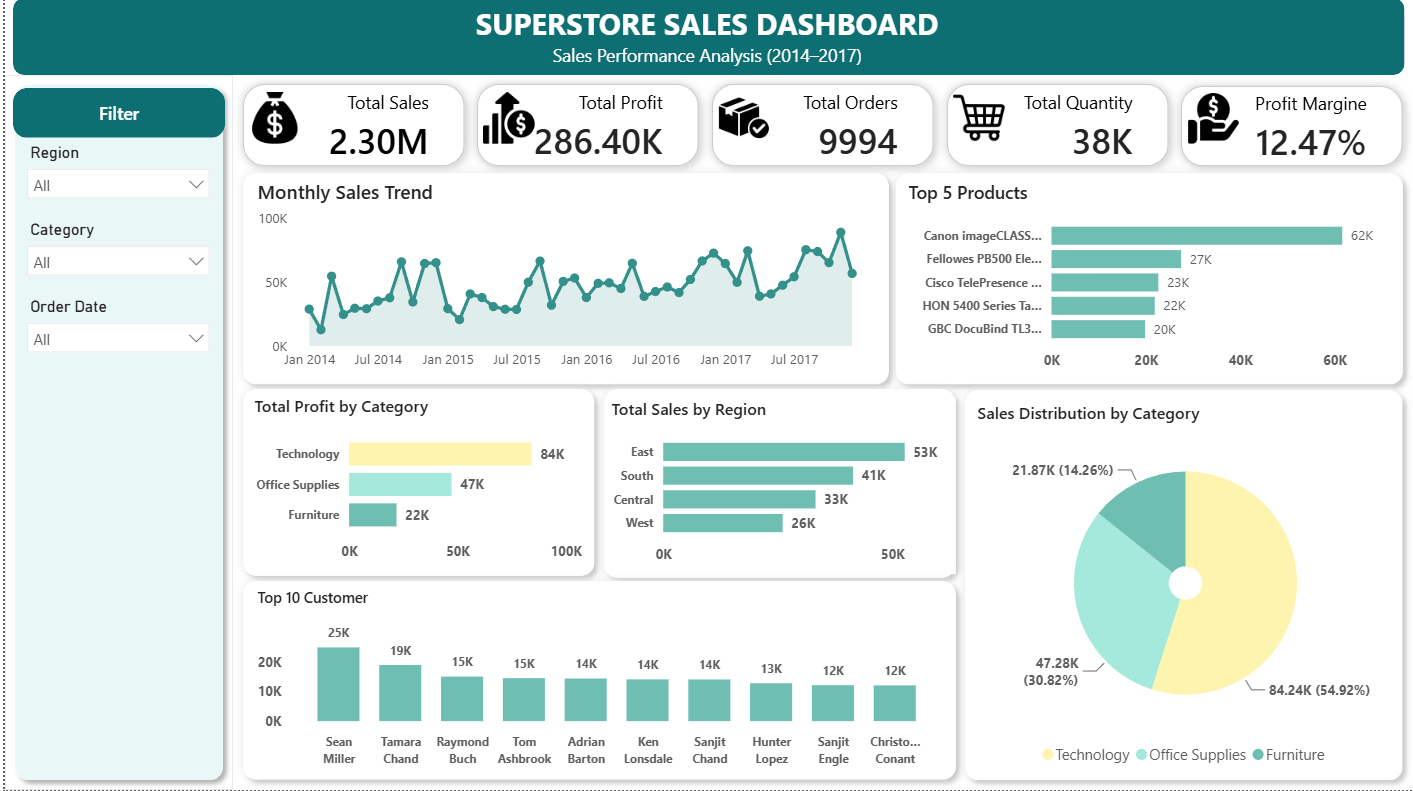

Layout of this report page (visuals, bound fields, positions):
{"tool":"powerbi","page":{"name":"Sales Dashboard","canvas":[1280,720],"ordinal":0},"visuals":[{"type":"shape","box":[7,0,1265,70],"z":0},{"type":"group","id":"g1","title":"Group 1","box":[206.9,69,219.4,93.1],"z":0,"group":"g6"},{"type":"shape","box":[206.9,69,219.6,92.9],"z":0,"group":"g1"},{"type":"group","id":"g2","title":"Group 1","box":[420,69,219.4,93.1],"z":0,"group":"g7"},{"type":"shape","box":[420,69,219.6,92.9],"z":0,"group":"g2"},{"type":"group","id":"g3","title":"Group 1","box":[634,69,219.4,93.1],"z":0,"group":"g8"},{"type":"shape","box":[634,69,219.6,92.9],"z":0,"group":"g3"},{"type":"group","id":"g4","title":"Group 1","box":[847.2,69,219.4,93.1],"z":0,"group":"g9"},{"type":"shape","box":[847.2,69,219.6,92.9],"z":0,"group":"g4"},{"type":"group","id":"g5","title":"Group 1","box":[1060.3,70.7,219.4,91.3],"z":0,"group":"g10"},{"type":"shape","box":[1060.3,70.7,219.6,91.1],"z":0,"group":"g5"},{"type":"shape","box":[206.9,149.6,605.4,210.4],"z":0,"group":"g11"},{"type":"shape","box":[800.6,149.6,479.1,210.4],"z":0,"group":"g12"},{"type":"shape","box":[206.9,346.6,337.6,188],"z":0,"group":"g13"},{"type":"shape","box":[535.5,346.6,337.6,189.9],"z":0,"group":"g14"},{"type":"shape","box":[864,347,416,373],"z":0,"group":"g15"},{"type":"shape","box":[206.9,521.2,666.3,198.8],"z":0,"group":"g16"},{"type":"textbox","box":[36.7,0,1204.2,70],"z":1000},{"type":"cardVisual","fields":{"Data":["cleaned_sales_data.Total Sales"]},"box":[218.4,70.6,195.6,91.5],"z":1000,"group":"g1"},{"type":"cardVisual","fields":{"Data":["cleaned_sales_data.Total Profit"]},"box":[431.5,70.6,195.6,91.5],"z":1000,"group":"g2"},{"type":"cardVisual","fields":{"Data":["cleaned_sales_data.Total Orders"]},"box":[645.5,70.6,195.6,91.5],"z":1000,"group":"g3"},{"type":"cardVisual","fields":{"Data":["cleaned_sales_data.Total Quantity"]},"box":[858.7,70.6,195.6,91.5],"z":1000,"group":"g4"},{"type":"cardVisual","fields":{"Data":["cleaned_sales_data.Profit Margine"]},"box":[1071.8,72.2,195.6,89.7],"z":1000,"group":"g5"},{"type":"image","box":[221.3,85,47.5,47.3],"z":1000,"group":"g6"},{"type":"image","box":[434.4,85,47.5,47.3],"z":1000,"group":"g7"},{"type":"image","box":[648.4,85,47.5,47.3],"z":1000,"group":"g8"},{"type":"image","box":[861.6,85,47.5,47.3],"z":1000,"group":"g9"},{"type":"image","box":[1074.7,86.4,47.5,46.4],"z":1000,"group":"g10"},{"type":"lineChart","title":"Monthly Sales Trend","fields":{"Y":["cleaned_sales_data.Total Sales"],"Category":["cleaned_sales_data.Order Date.Variation.Date Hierarchy.Year","cleaned_sales_data.Order Date.Variation.Date Hierarchy.Month"]},"box":[224.1,163,572.6,182.7],"z":1000,"group":"g11"},{"type":"clusteredBarChart","title":"Top 5 Products","fields":{"Y":["cleaned_sales_data.Total Sales"],"Category":["cleaned_sales_data.Product Name"]},"box":[816.2,164.7,451.3,181.9],"z":1000,"group":"g12"},{"type":"clusteredBarChart","title":"Total Profit by Category","fields":{"Y":["cleaned_sales_data.Total Sales"],"Category":["cleaned_sales_data.Category"]},"box":[221.3,360.4,308.1,161.6],"z":1000,"group":"g13"},{"type":"clusteredBarChart","title":"Total Sales by Region","fields":{"Y":["cleaned_sales_data.Total Sales"],"Category":["cleaned_sales_data.Region"]},"box":[546.5,362.6,318,161.3],"z":1000,"group":"g14"},{"type":"donutChart","title":"Sales Distribution by Category","fields":{"Category":["cleaned_sales_data.Category"],"Y":["cleaned_sales_data.Total Sales"]},"box":[879.1,365.7,388.2,340.3],"z":1000,"group":"g15"},{"type":"clusteredColumnChart","title":"Top 10 Customer","fields":{"Category":["cleaned_sales_data.Customer Name"],"Y":["cleaned_sales_data.Total Sales"]},"box":[224,537,632,170],"z":1000,"group":"g16"},{"type":"shape","box":[0,70,207.3,650],"z":3000},{"type":"shape","box":[7.3,81.8,192.7,45.5],"z":4000},{"type":"slicer","fields":{"Values":["cleaned_sales_data.Region"]},"box":[10,127.3,186.4,70],"z":5000},{"type":"slicer","fields":{"Values":["cleaned_sales_data.Category"]},"box":[10,197.3,186.4,70],"z":6000},{"type":"slicer","fields":{"Values":["cleaned_sales_data.Order Date"]},"box":[10,267.3,186.4,70],"z":7000},{"type":"group","id":"g6","title":"Group 2","box":[206.9,69,219.4,93.1],"z":8000},{"type":"group","id":"g7","title":"Group 2","box":[420,69,219.4,93.1],"z":9000},{"type":"group","id":"g8","title":"Group 2","box":[634,69,219.4,93.1],"z":10000},{"type":"group","id":"g9","title":"Group 2","box":[847.2,69,219.4,93.1],"z":11000},{"type":"group","id":"g10","title":"Group 2","box":[1060.3,70.7,219.4,91.3],"z":12000},{"type":"group","id":"g11","title":"Group 3","box":[206.9,149.6,605.4,210.4],"z":13000},{"type":"group","id":"g12","title":"Group 3","box":[800.6,149.6,479.1,210.4],"z":14000},{"type":"group","id":"g13","title":"Group 3","box":[206.9,346.6,337.6,188.1],"z":15000},{"type":"group","id":"g14","title":"Group 3","box":[535.5,346.6,337.6,189.9],"z":16000},{"type":"group","id":"g15","title":"Group 3","box":[864,347,416,373],"z":17000},{"type":"group","id":"g16","title":"Group 3","box":[206.9,521.2,666.3,198.8],"z":18000}]}

Visuals, with their boxes in screenshot pixels (x1, y1, x2, y2), scaled from the page's 1280x720 canvas onto the 1413x791 screenshot:
shape: x1=8, y1=0, x2=1404, y2=77
"Group 1" group: x1=228, y1=76, x2=471, y2=178
shape: x1=228, y1=76, x2=471, y2=178
"Group 1" group: x1=464, y1=76, x2=706, y2=178
shape: x1=464, y1=76, x2=706, y2=178
"Group 1" group: x1=700, y1=76, x2=942, y2=178
shape: x1=700, y1=76, x2=942, y2=178
"Group 1" group: x1=935, y1=76, x2=1177, y2=178
shape: x1=935, y1=76, x2=1178, y2=178
"Group 1" group: x1=1170, y1=78, x2=1412, y2=178
shape: x1=1170, y1=78, x2=1412, y2=178
shape: x1=228, y1=164, x2=897, y2=396
shape: x1=884, y1=164, x2=1412, y2=396
shape: x1=228, y1=381, x2=601, y2=587
shape: x1=591, y1=381, x2=964, y2=589
shape: x1=954, y1=381, x2=1412, y2=790
shape: x1=228, y1=573, x2=964, y2=790
textbox: x1=41, y1=0, x2=1370, y2=77
cardVisual - cleaned_sales_data.Total Sales: x1=241, y1=78, x2=457, y2=178
cardVisual - cleaned_sales_data.Total Profit: x1=476, y1=78, x2=692, y2=178
cardVisual - cleaned_sales_data.Total Orders: x1=713, y1=78, x2=928, y2=178
cardVisual - cleaned_sales_data.Total Quantity: x1=948, y1=78, x2=1164, y2=178
cardVisual - cleaned_sales_data.Profit Margine: x1=1183, y1=79, x2=1399, y2=178
image: x1=244, y1=93, x2=297, y2=145
image: x1=480, y1=93, x2=532, y2=145
image: x1=716, y1=93, x2=768, y2=145
image: x1=951, y1=93, x2=1004, y2=145
image: x1=1186, y1=95, x2=1239, y2=146
"Monthly Sales Trend" lineChart: x1=247, y1=179, x2=879, y2=380
"Top 5 Products" clusteredBarChart: x1=901, y1=181, x2=1399, y2=381
"Total Profit by Category" clusteredBarChart: x1=244, y1=396, x2=584, y2=573
"Total Sales by Region" clusteredBarChart: x1=603, y1=398, x2=954, y2=576
"Sales Distribution by Category" donutChart: x1=970, y1=402, x2=1399, y2=776
"Top 10 Customer" clusteredColumnChart: x1=247, y1=590, x2=945, y2=777
shape: x1=0, y1=77, x2=229, y2=790
shape: x1=8, y1=90, x2=221, y2=140
slicer - cleaned_sales_data.Region: x1=11, y1=140, x2=217, y2=217
slicer - cleaned_sales_data.Category: x1=11, y1=217, x2=217, y2=294
slicer - cleaned_sales_data.Order Date: x1=11, y1=294, x2=217, y2=371
"Group 2" group: x1=228, y1=76, x2=471, y2=178
"Group 2" group: x1=464, y1=76, x2=706, y2=178
"Group 2" group: x1=700, y1=76, x2=942, y2=178
"Group 2" group: x1=935, y1=76, x2=1177, y2=178
"Group 2" group: x1=1170, y1=78, x2=1412, y2=178
"Group 3" group: x1=228, y1=164, x2=897, y2=396
"Group 3" group: x1=884, y1=164, x2=1412, y2=396
"Group 3" group: x1=228, y1=381, x2=601, y2=587
"Group 3" group: x1=591, y1=381, x2=964, y2=589
"Group 3" group: x1=954, y1=381, x2=1412, y2=790
"Group 3" group: x1=228, y1=573, x2=964, y2=790
